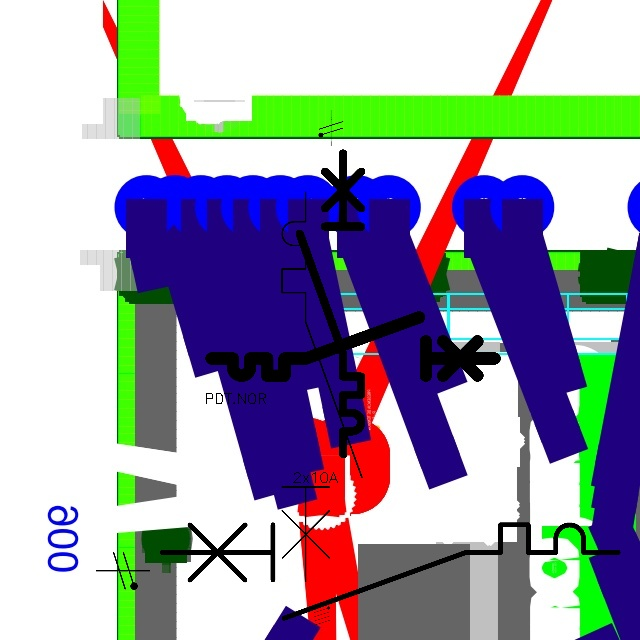interruptor_termomagnetico: (150, 513, 630, 630), (272, 182, 372, 591), (292, 145, 369, 462), (204, 310, 502, 383)
